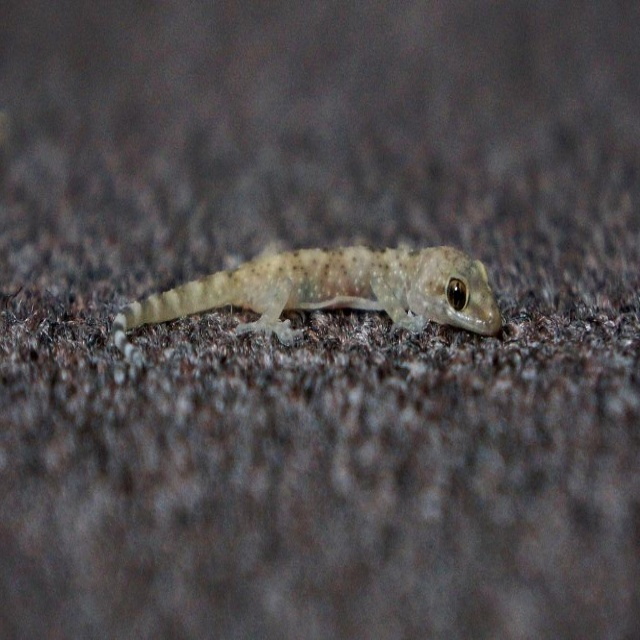Lizard: (113, 250, 501, 366)
